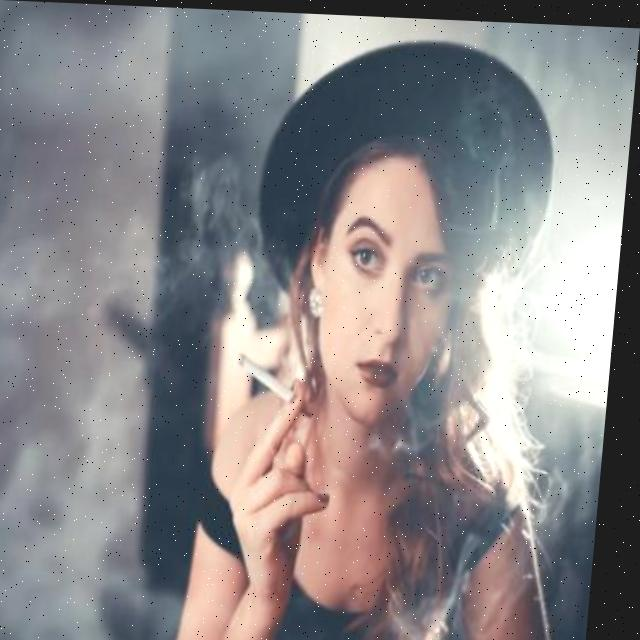cigarette: (238, 347, 326, 419)
